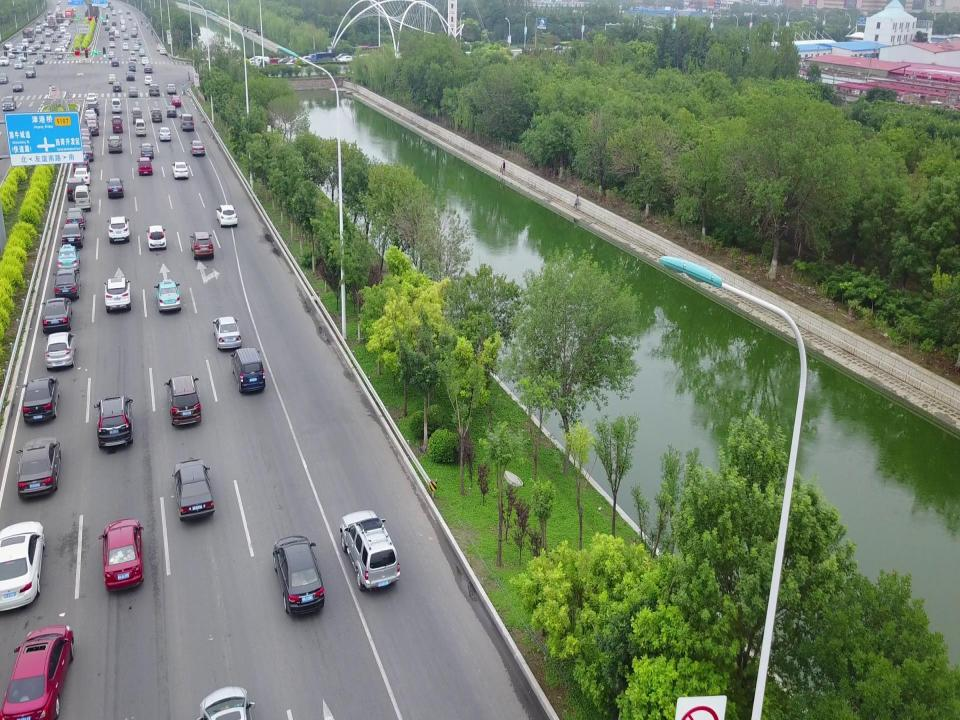bus: (351, 44, 385, 67), (21, 26, 35, 42)
car: (3, 623, 77, 720), (338, 506, 404, 594), (270, 535, 328, 617), (1, 518, 46, 610), (96, 514, 146, 596), (171, 451, 218, 528), (14, 436, 62, 501), (92, 390, 134, 453), (164, 371, 204, 428), (20, 375, 60, 424), (43, 327, 77, 371), (38, 296, 76, 334), (102, 275, 134, 314), (152, 276, 181, 313), (213, 315, 241, 351), (187, 228, 215, 262), (52, 267, 80, 300), (106, 213, 131, 244), (55, 244, 80, 272), (59, 221, 84, 248), (72, 184, 94, 211), (217, 202, 239, 227), (65, 176, 86, 202), (64, 206, 88, 227), (146, 225, 166, 249), (105, 176, 125, 199), (136, 155, 154, 177), (171, 159, 189, 180), (73, 166, 92, 185), (188, 139, 207, 158), (178, 112, 196, 132), (106, 135, 124, 154), (72, 151, 90, 169), (78, 141, 94, 161), (138, 142, 154, 160), (1, 94, 17, 112), (133, 117, 146, 137), (84, 100, 100, 116), (76, 123, 92, 138), (150, 106, 164, 123), (158, 126, 172, 142), (108, 97, 122, 113), (77, 131, 91, 146), (164, 104, 178, 119), (336, 54, 354, 65), (85, 96, 99, 109), (148, 83, 160, 98), (24, 65, 36, 80), (334, 52, 350, 63), (86, 122, 99, 135), (82, 108, 96, 120), (127, 85, 139, 99), (246, 59, 260, 71), (86, 118, 99, 130), (85, 92, 98, 104), (169, 94, 181, 107), (12, 80, 24, 93), (286, 57, 300, 67), (300, 55, 314, 65), (166, 82, 177, 94), (124, 70, 136, 81), (86, 114, 99, 124), (276, 57, 289, 67), (0, 72, 10, 85), (34, 54, 45, 65), (106, 73, 118, 83), (127, 59, 137, 71), (252, 56, 264, 66), (12, 59, 24, 69), (112, 80, 122, 91), (143, 63, 153, 74), (246, 57, 257, 67), (0, 55, 10, 66), (54, 49, 64, 59), (18, 53, 28, 63), (128, 50, 137, 61), (552, 44, 564, 52), (8, 47, 16, 59), (144, 75, 153, 85), (42, 43, 52, 52), (37, 48, 46, 58), (254, 58, 265, 66), (14, 44, 22, 55), (158, 46, 167, 55), (111, 56, 119, 66), (141, 55, 149, 65), (138, 47, 146, 57), (133, 37, 143, 45), (121, 42, 129, 51), (130, 27, 138, 36), (51, 33, 59, 42), (43, 29, 51, 38), (33, 40, 41, 49), (4, 41, 12, 50), (28, 46, 36, 55), (155, 43, 163, 51), (58, 46, 66, 54), (57, 44, 65, 52), (61, 40, 69, 48), (37, 36, 45, 44), (20, 39, 28, 47), (108, 51, 115, 59), (61, 42, 69, 49), (64, 32, 71, 40), (59, 27, 67, 34), (17, 43, 25, 50), (133, 42, 139, 51), (108, 28, 114, 37), (114, 29, 120, 38), (54, 30, 61, 37), (109, 41, 115, 49), (123, 33, 129, 41), (104, 24, 110, 32), (110, 25, 116, 33), (62, 37, 70, 43), (64, 35, 70, 43), (59, 22, 65, 30), (48, 27, 54, 35), (39, 24, 45, 32), (31, 29, 37, 37), (131, 31, 138, 37), (131, 25, 137, 32), (121, 23, 127, 30), (127, 13, 133, 20), (100, 19, 107, 25), (62, 21, 68, 28), (35, 18, 41, 25), (42, 19, 48, 26), (120, 24, 125, 32), (109, 36, 115, 42), (111, 10, 117, 16), (108, 34, 114, 40), (65, 18, 71, 24), (71, 11, 77, 17), (46, 9, 52, 15), (132, 21, 137, 28), (119, 17, 124, 23), (111, 21, 117, 26), (55, 6, 60, 11), (126, 8, 130, 14), (109, 4, 113, 10), (118, 9, 122, 14), (119, 15, 123, 20), (106, 3, 110, 8), (102, 4, 106, 9), (72, 6, 76, 11), (54, 9, 59, 13), (54, 10, 58, 15), (107, 1, 111, 5), (56, 1, 60, 5), (57, 0, 61, 4)
truck: (309, 53, 335, 65), (65, 7, 74, 23), (48, 17, 59, 30)
van: (229, 344, 267, 396), (111, 115, 125, 134), (257, 56, 271, 69), (36, 25, 42, 34), (120, 18, 126, 25), (104, 12, 110, 19)
